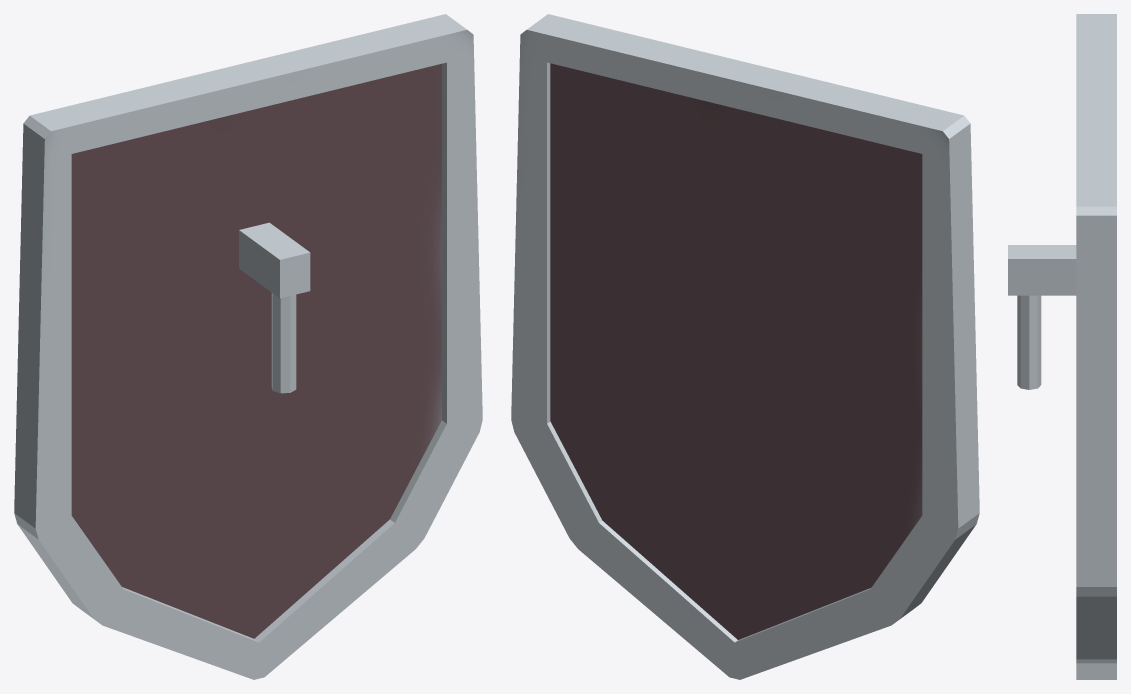
File: Shiled.obj
3 views of the same model, side by side, from view 1: azimuth 30°, elevation 25°; view 2: azimuth 150°, elevation 25°; view 3: azimuth 270°, elevation 25° (orthographic). The views are drawn at different scales.
Parts seen in each view (by area): view 1: Cube; view 2: Cube; view 3: Cube.
Boxes of the visible parts, x1,y1,x2,y2 form: Cube: (14, 14, 482, 679); Cube: (511, 14, 979, 679); Cube: (1008, 14, 1116, 679).
Bounding box in the file's own units: 0.7086 × 0.9058 × 0.1576.
Materials: 1 (1 with a texture image).
